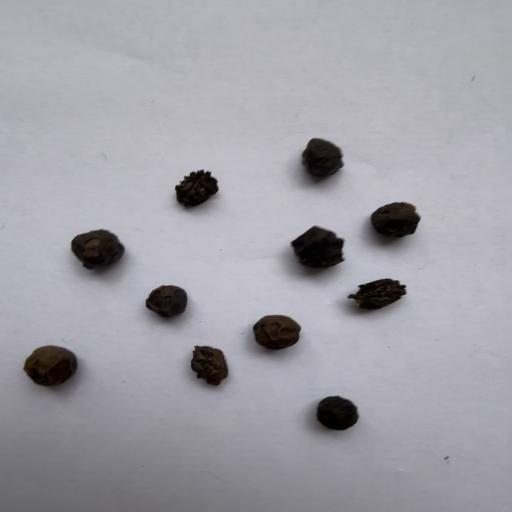Black_pepper: (56, 222, 147, 270), (302, 386, 379, 442), (366, 186, 436, 242), (243, 306, 325, 352), (293, 127, 359, 179), (20, 341, 96, 386), (287, 222, 355, 272), (140, 275, 211, 319)
papaya_seed: (165, 164, 238, 214), (345, 276, 416, 316), (182, 343, 228, 388)
